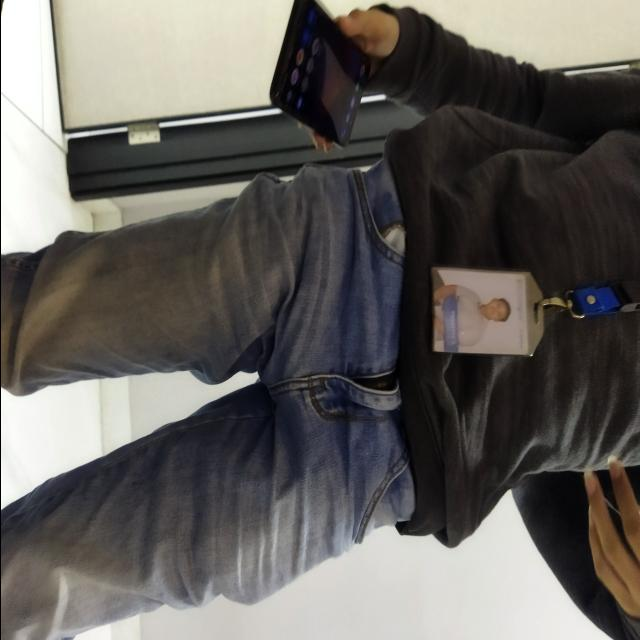ID_card: (428, 264, 544, 358)
